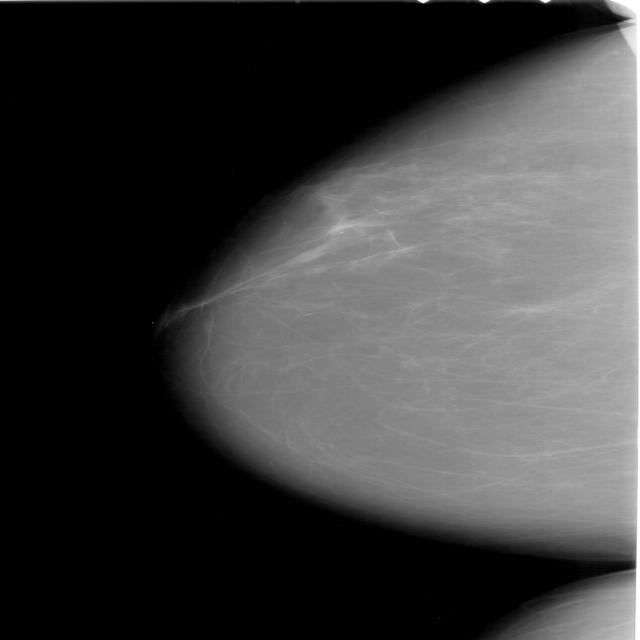normal: (166, 29, 640, 554)
